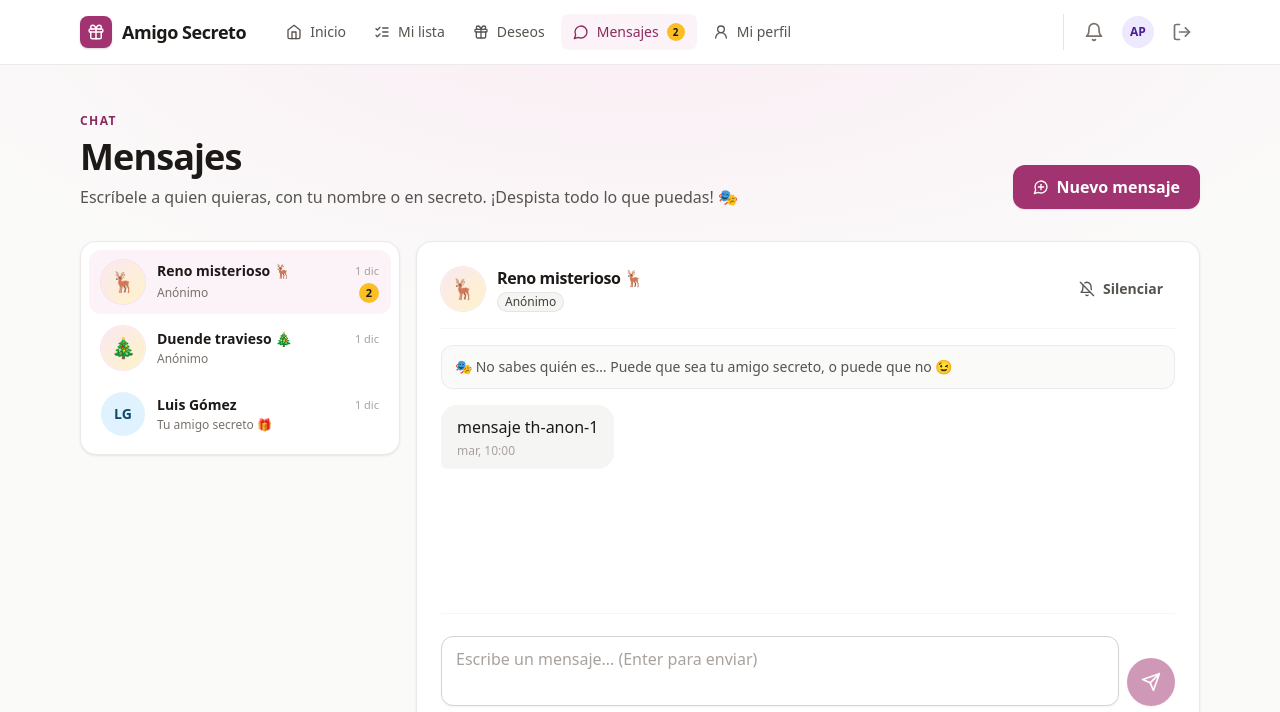
Scenario: ChatPage › escribe en secreto a cualquier participante
Click the button "Nuevo mensaje" at (1106, 187), box [1012,165,1200,209]
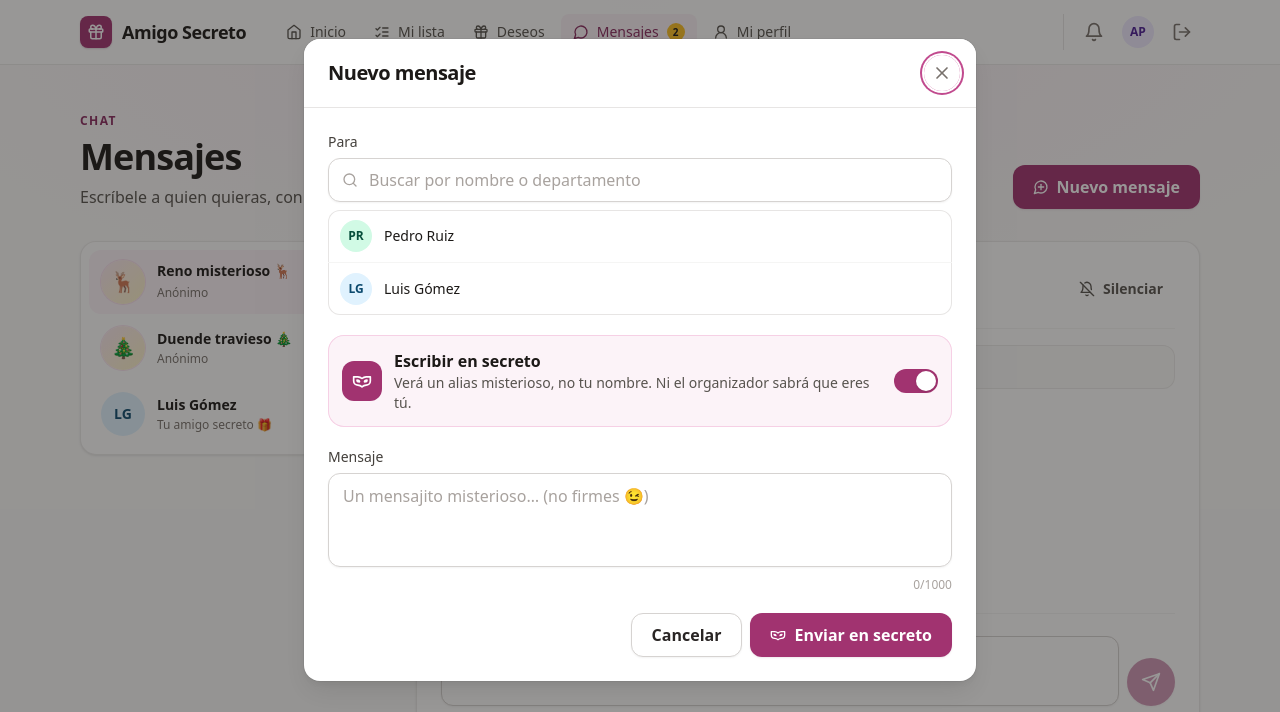
Click the button "PR Pedro Ruiz" at (356, 236), box [328,210,952,262]
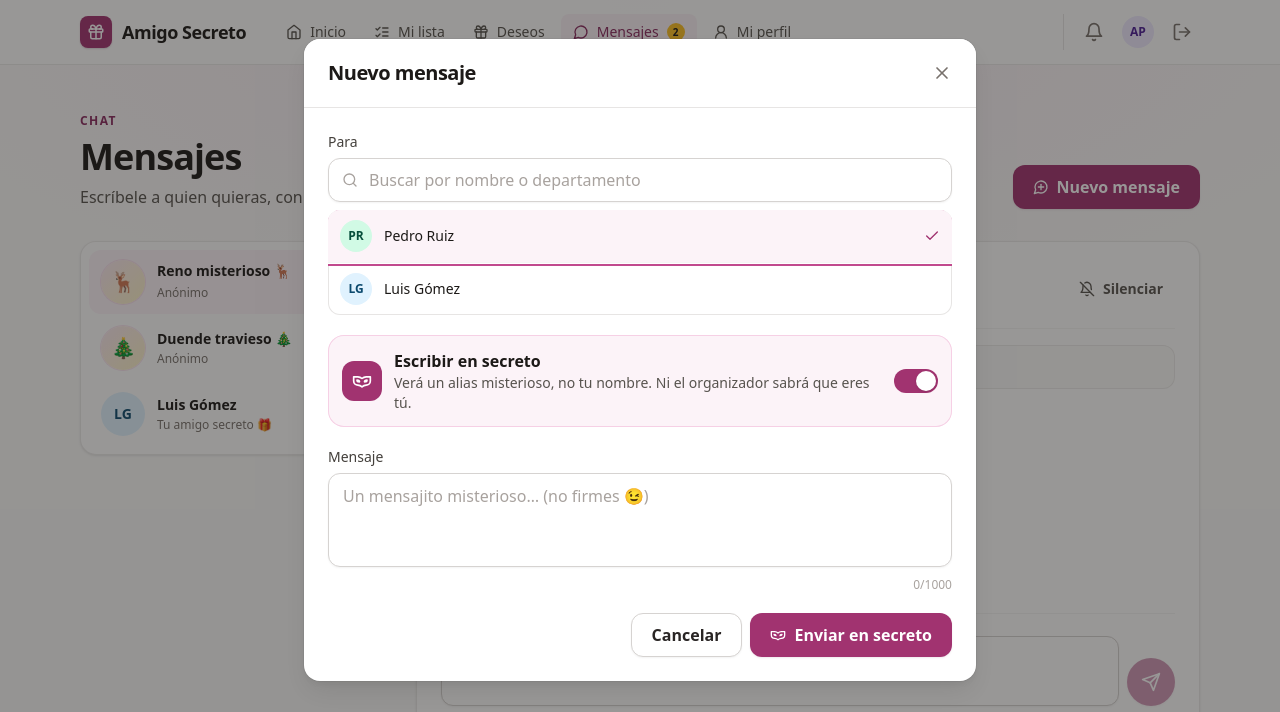
Type "Te dejé un turrón 🍫" into the text box labelled "Mensaje" at (640, 520), box [328,473,952,567]
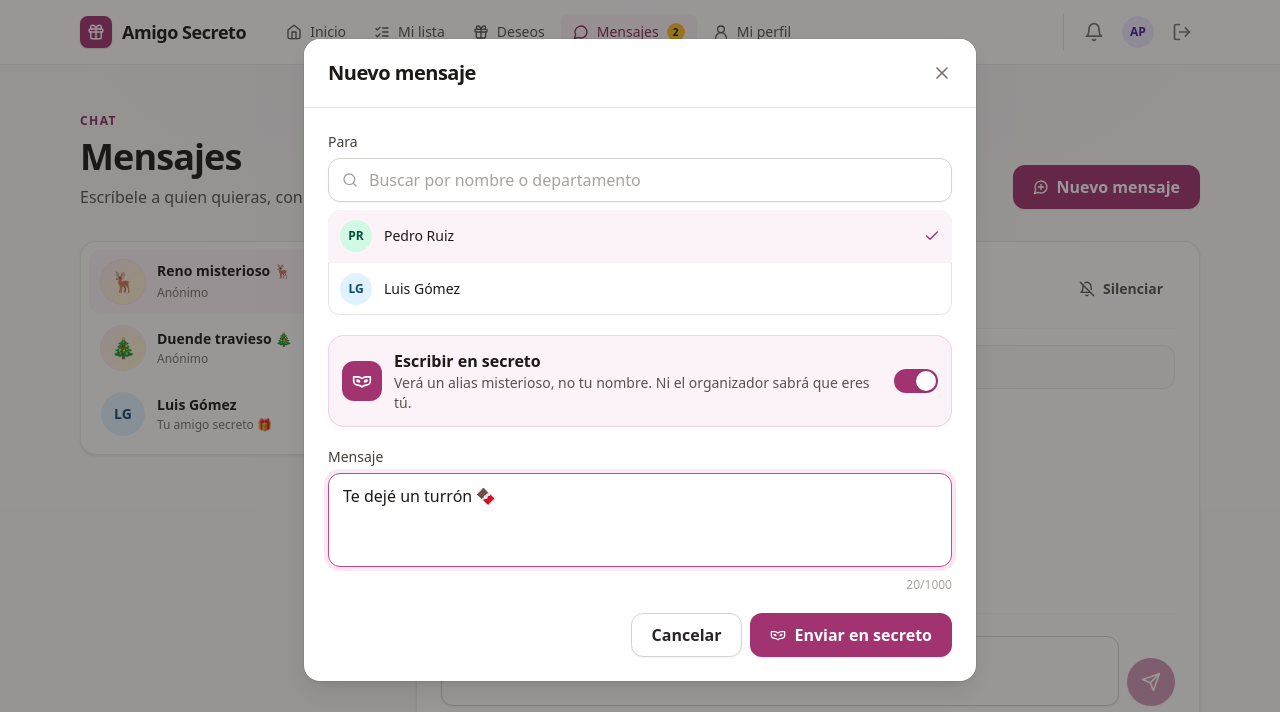
Click the button "Enviar en secreto" at (851, 635), box [750,613,952,657]
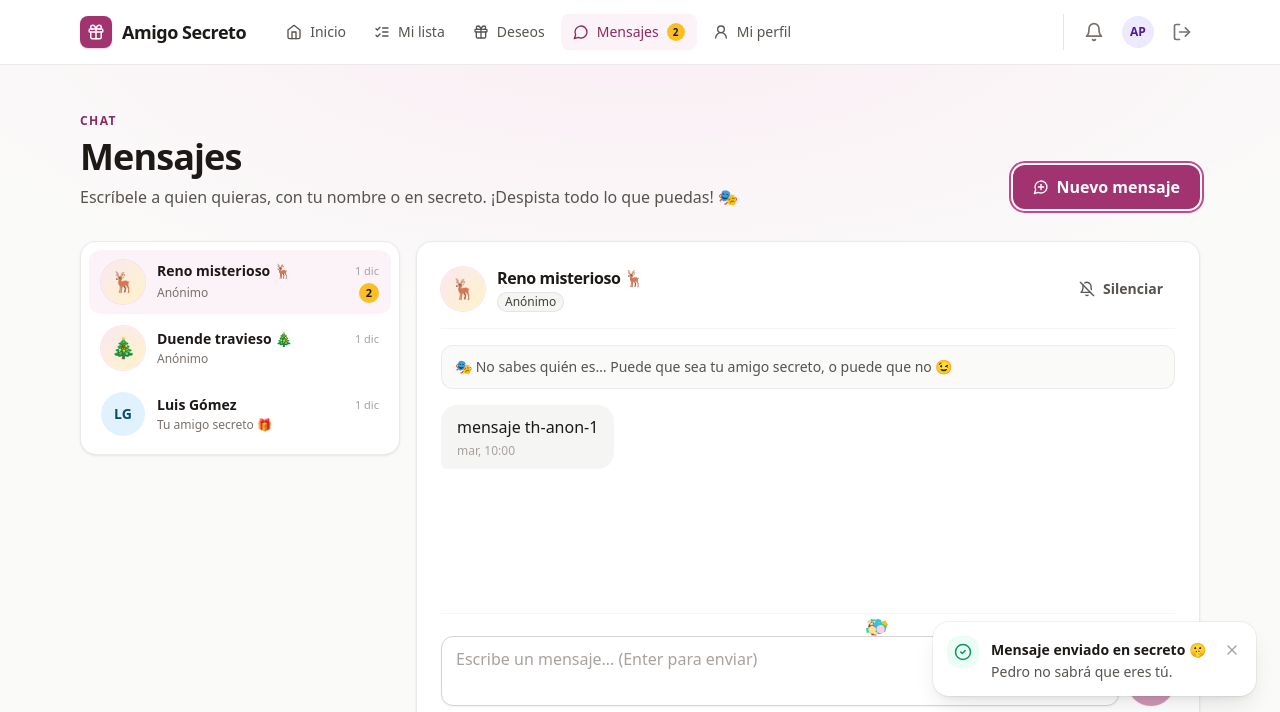
expect the text "Mensaje enviado en secreto 🤫" is shown: met, box [991,640,1206,660]
